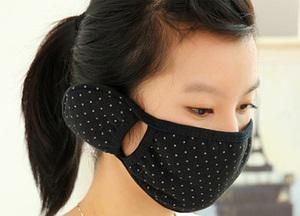OK: (118, 70, 257, 209)
